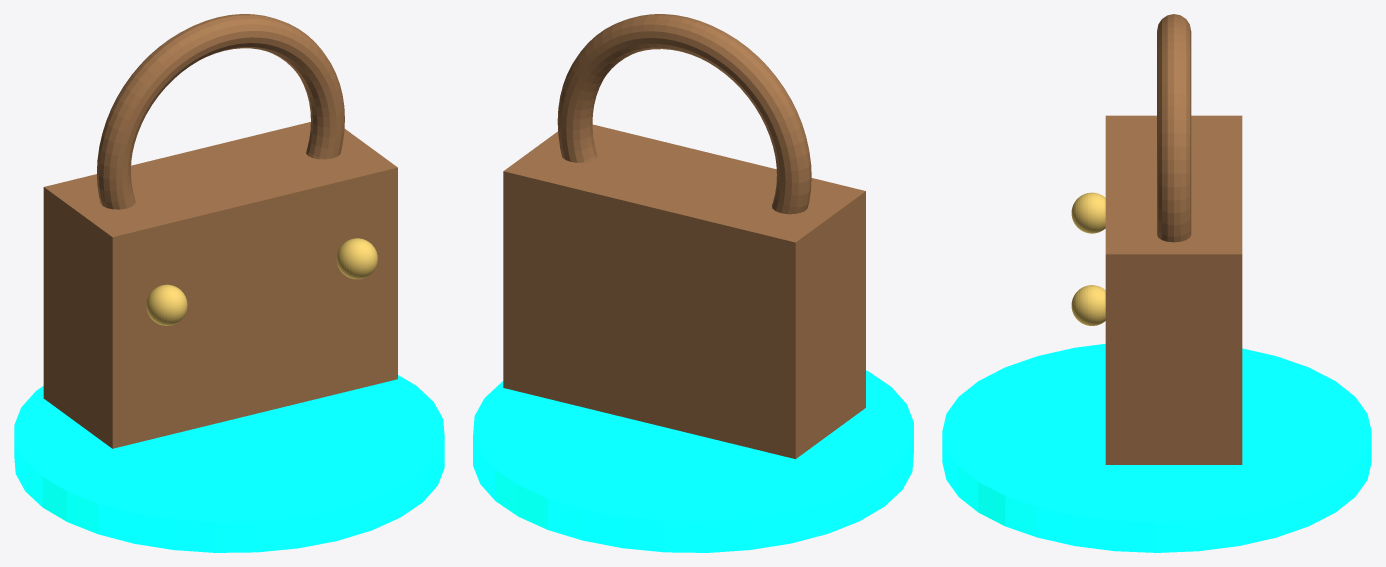
The model's file is fashion_handbag.glb.
3 renders of one model, left to right at view 1: azimuth 30°, elevation 25°; view 2: azimuth 150°, elevation 25°; view 3: azimuth 270°, elevation 25°, orthographic. The views are drawn at different scales.
Parts seen in each view (by area): view 1: 06_01_Popular_Fashion_Handbag_part_01, 06_01_Popular_Fashion_Handbag_ROOT_base, 06_01_Popular_Fashion_Handbag_part_02, 06_01_Popular_Fashion_Handbag_part_04, 06_01_Popular_Fashion_Handbag_part_03; view 2: 06_01_Popular_Fashion_Handbag_part_01, 06_01_Popular_Fashion_Handbag_ROOT_base, 06_01_Popular_Fashion_Handbag_part_02; view 3: 06_01_Popular_Fashion_Handbag_ROOT_base, 06_01_Popular_Fashion_Handbag_part_01, 06_01_Popular_Fashion_Handbag_part_02, 06_01_Popular_Fashion_Handbag_part_04, 06_01_Popular_Fashion_Handbag_part_03.
Boxes of the visible parts, x1=… form: 06_01_Popular_Fashion_Handbag_part_01: x1=43, y1=122, x2=397, y2=448; 06_01_Popular_Fashion_Handbag_ROOT_base: x1=14, y1=375, x2=444, y2=552; 06_01_Popular_Fashion_Handbag_part_02: x1=97, y1=14, x2=344, y2=209; 06_01_Popular_Fashion_Handbag_part_04: x1=146, y1=284, x2=187, y2=325; 06_01_Popular_Fashion_Handbag_part_03: x1=336, y1=238, x2=377, y2=279; 06_01_Popular_Fashion_Handbag_part_01: x1=503, y1=124, x2=865, y2=458; 06_01_Popular_Fashion_Handbag_ROOT_base: x1=473, y1=370, x2=913, y2=552; 06_01_Popular_Fashion_Handbag_part_02: x1=557, y1=14, x2=811, y2=214; 06_01_Popular_Fashion_Handbag_ROOT_base: x1=942, y1=343, x2=1371, y2=552; 06_01_Popular_Fashion_Handbag_part_01: x1=1105, y1=115, x2=1242, y2=464; 06_01_Popular_Fashion_Handbag_part_02: x1=1157, y1=14, x2=1191, y2=242; 06_01_Popular_Fashion_Handbag_part_04: x1=1071, y1=192, x2=1105, y2=233; 06_01_Popular_Fashion_Handbag_part_03: x1=1071, y1=285, x2=1105, y2=325.
Bounding box in the file's own units: 0.76 × 0.85 × 0.76.
